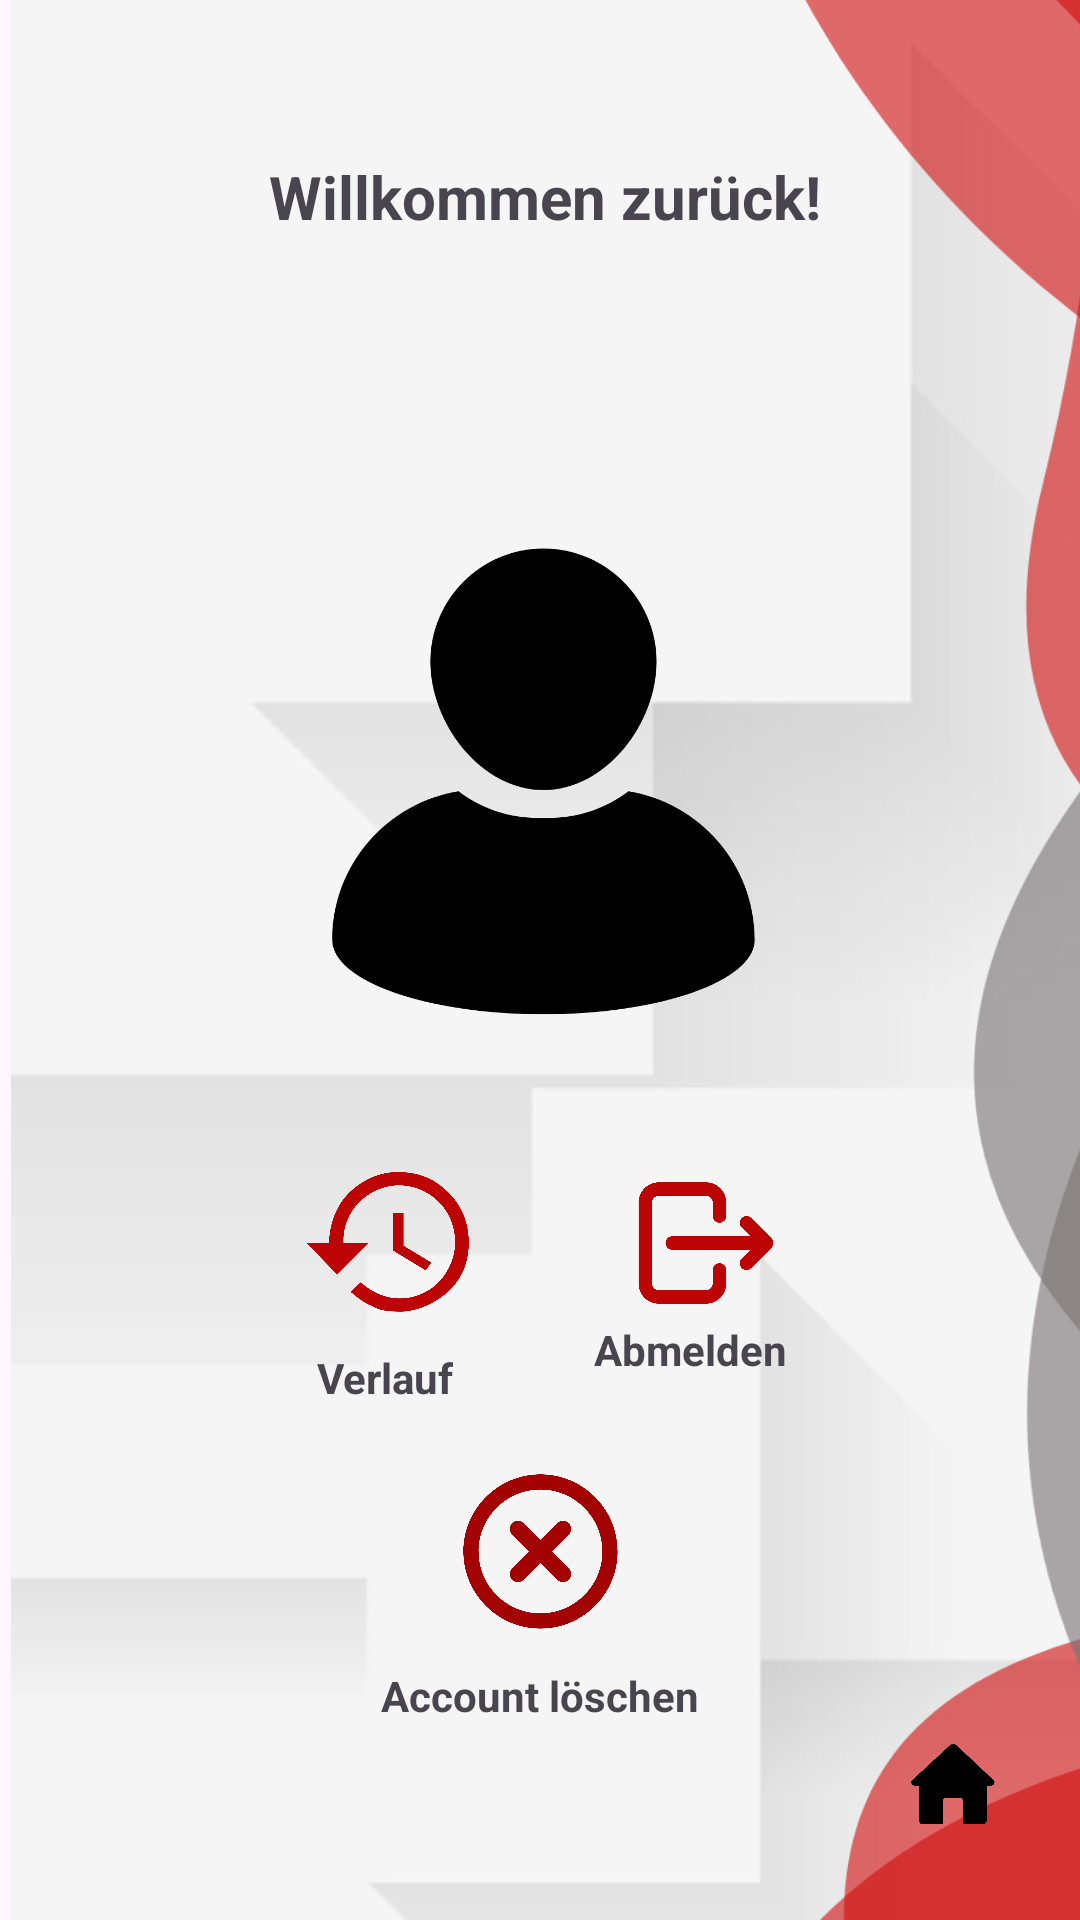

Screen size 1080x1920. Icon name, then its box in pixels as (x1, y1, x2, y2):
xbutton: (463, 1474, 618, 1629)
